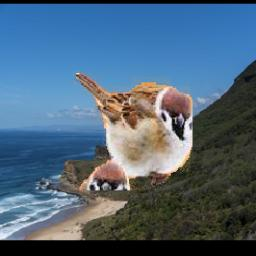Sparrow: (72, 72, 194, 191)
